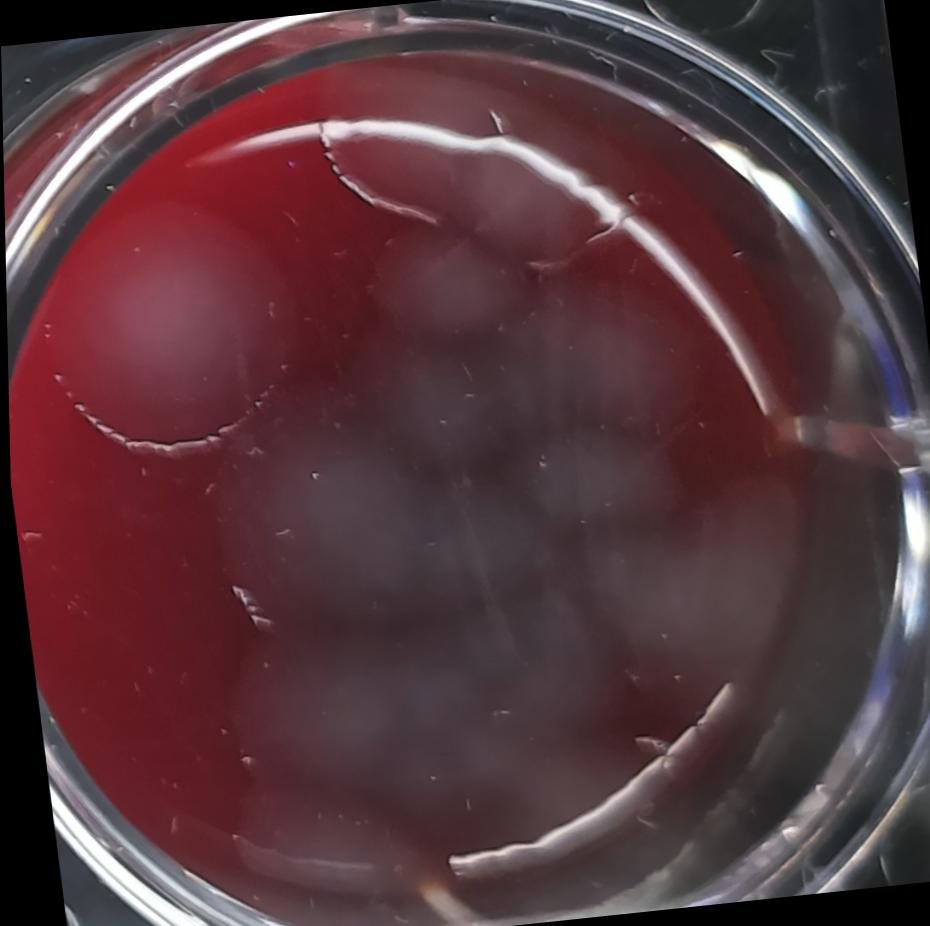valgino: (305, 2, 616, 288), (19, 182, 311, 472), (571, 442, 839, 702), (205, 396, 443, 632), (188, 594, 428, 798), (212, 763, 438, 924), (370, 464, 562, 638), (486, 400, 693, 556), (489, 275, 675, 436), (347, 327, 524, 493), (361, 225, 524, 362), (491, 558, 623, 678)
